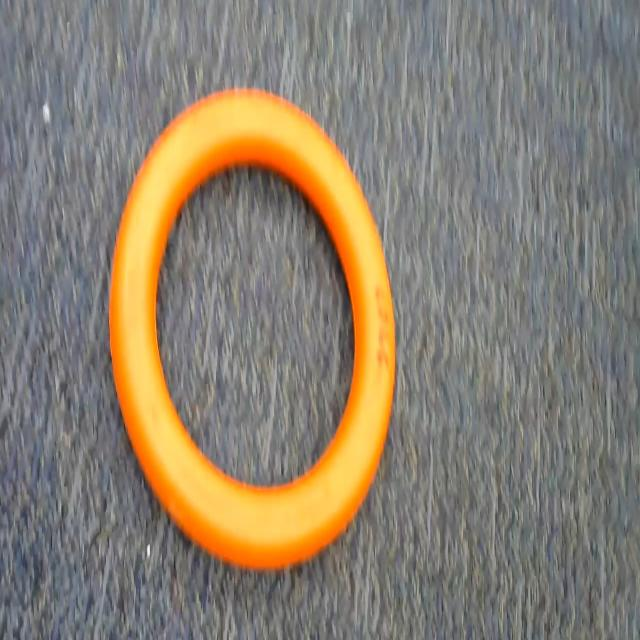note: (102, 70, 406, 598)
